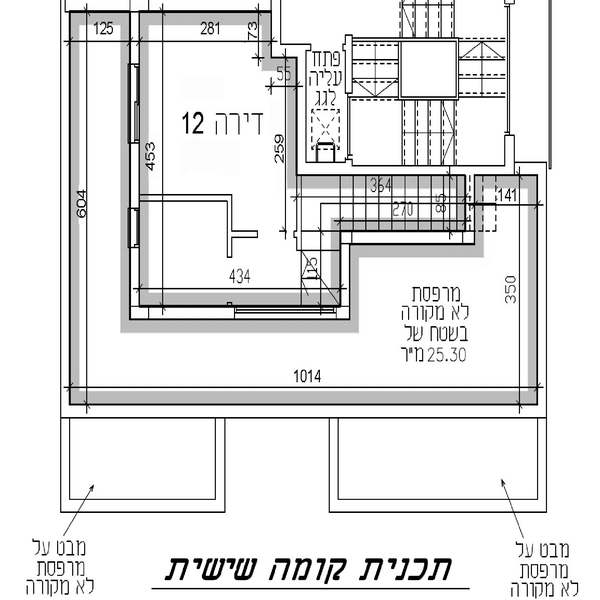room: (123, 2, 288, 327), (292, 160, 478, 248)
wall: (297, 156, 513, 178), (295, 51, 316, 172), (341, 229, 473, 244), (133, 302, 237, 321), (336, 244, 354, 323), (125, 146, 146, 207), (263, 39, 314, 62), (499, 130, 521, 181), (126, 249, 141, 323), (265, 6, 286, 57), (125, 13, 143, 61)
window: (234, 301, 341, 322), (127, 64, 145, 143), (126, 207, 145, 246)
